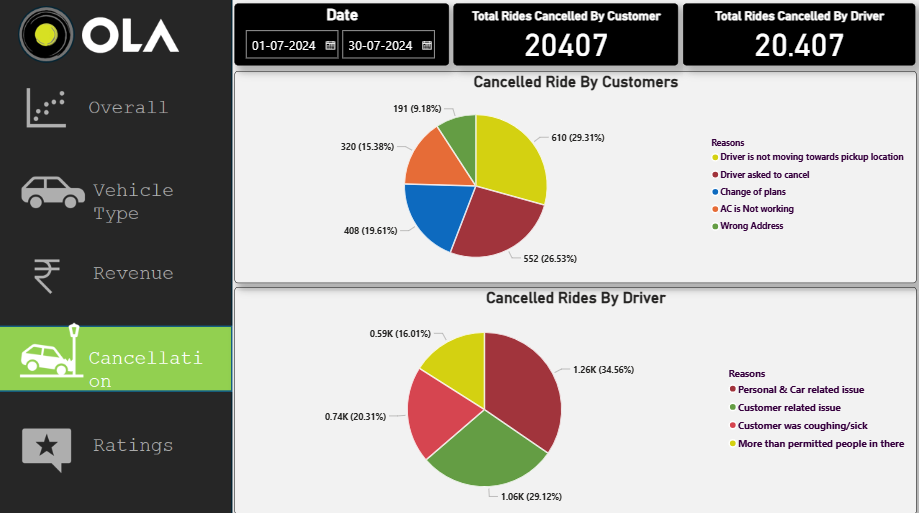

The dashboard page shown, as its layout file describes it:
{"tool":"powerbi","page":{"name":"Cancellation","canvas":[1280,720],"ordinal":3},"visuals":[{"type":"actionButton","box":[0,228.1,324.6,93],"z":0},{"type":"actionButton","box":[0,336.8,324.6,93],"z":1000},{"type":"actionButton","box":[0,456.1,324.6,87.7],"z":2000},{"type":"actionButton","box":[0,575.4,324.6,93],"z":3000},{"type":"actionButton","box":[0,110.5,324.6,89.5],"z":4000},{"type":"pieChart","title":"Cancelled Ride By Customers","fields":{"Series":["July (2).Booking_Status"],"Category":["July (2).Canceled_Rides_by_Customer"],"Y":["CountNonNull(July (2).Canceled_Rides_by_Customer)"]},"box":[326.3,100,947.4,294.7],"z":4003},{"type":"pieChart","title":"Cancelled Rides By Driver","fields":{"Series":["July (2).Booking_Status"],"Category":["July (2).Canceled_Rides_by_Driver"],"Y":["CountNonNull(July (2).Canceled_Rides_by_Driver)"]},"box":[326.3,400,947.4,315.8],"z":4004},{"type":"slicer","title":"Date","fields":{"Values":["July (2).Date"]},"box":[326.3,7,298.2,86],"z":4005},{"type":"card","title":"Total Rides Cancelled By Customer","fields":{"Values":["CountNonNull(July (2).Canceled_Rides_by_Customer)"]},"box":[631.6,7,312.3,86],"z":4006},{"type":"card","title":"Total Rides Cancelled By Driver","fields":{"Values":["CountNonNull(July (2).Canceled_Rides_by_Driver)"]},"box":[950.9,7,322.8,86],"z":4007}]}

Visuals, with their boxes on the page's 1280x720 design canvas (x1, y1, x2, y2). These are canvas units, not pixel positions in the 919x513 screenshot, which may show the page scaled, cropped or inside an application window:
actionButton: (left=0, top=228, right=325, bottom=321)
actionButton: (left=0, top=337, right=325, bottom=430)
actionButton: (left=0, top=456, right=325, bottom=544)
actionButton: (left=0, top=575, right=325, bottom=668)
actionButton: (left=0, top=110, right=325, bottom=200)
"Cancelled Ride By Customers" pieChart: (left=326, top=100, right=1274, bottom=395)
"Cancelled Rides By Driver" pieChart: (left=326, top=400, right=1274, bottom=716)
"Date" slicer: (left=326, top=7, right=624, bottom=93)
"Total Rides Cancelled By Customer" card: (left=632, top=7, right=944, bottom=93)
"Total Rides Cancelled By Driver" card: (left=951, top=7, right=1274, bottom=93)
